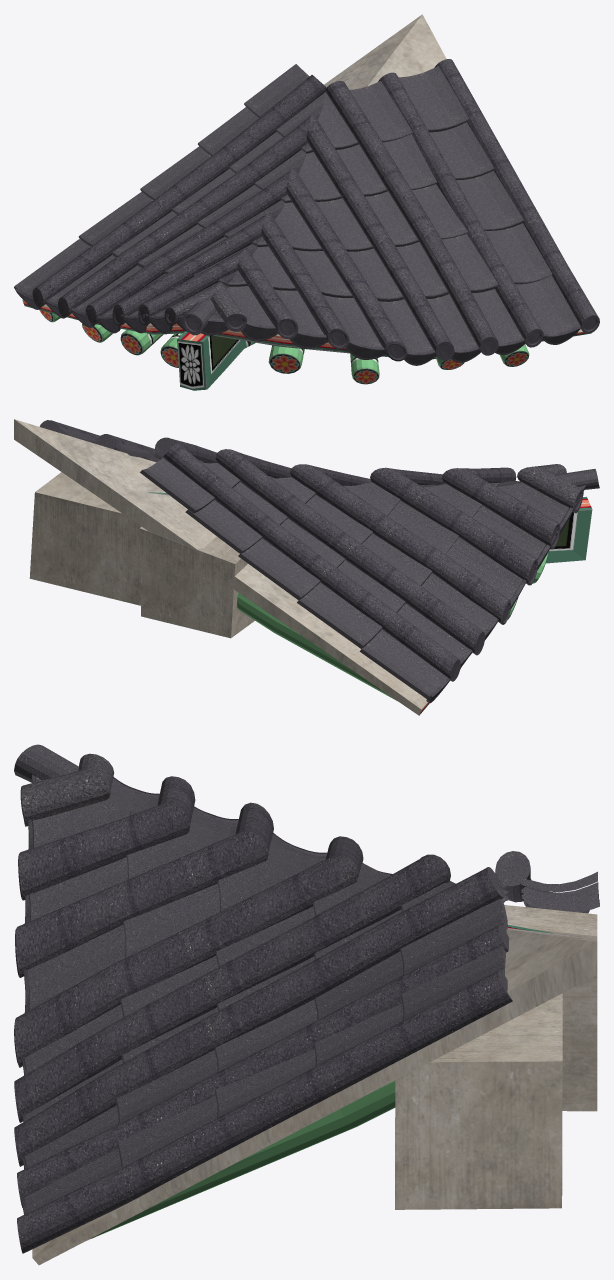
File: SM_R_RoofCorner_15.fbx
3 views of the same model, one above another, from view 1: azimuth 30°, elevation 25°; view 2: azimuth 150°, elevation 25°; view 3: azimuth 270°, elevation 25° (orthographic). The views are drawn at different scales.
Visible parts, largest first — view 1: SM_R_RoofCorner_15; view 2: SM_R_RoofCorner_15; view 3: SM_R_RoofCorner_15.
Boxes of the visible parts, <box> form: SM_R_RoofCorner_15: <box>14,14,599,390</box>; SM_R_RoofCorner_15: <box>14,419,599,715</box>; SM_R_RoofCorner_15: <box>14,744,599,1265</box>.
Size of the model in its own units: 340 by 253 by 172.
5 materials, 5 textured.
